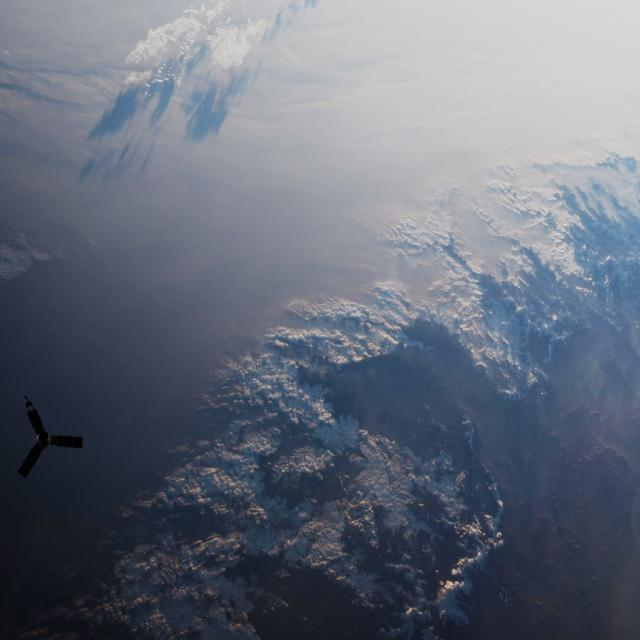satellite: (11, 399, 92, 483)
